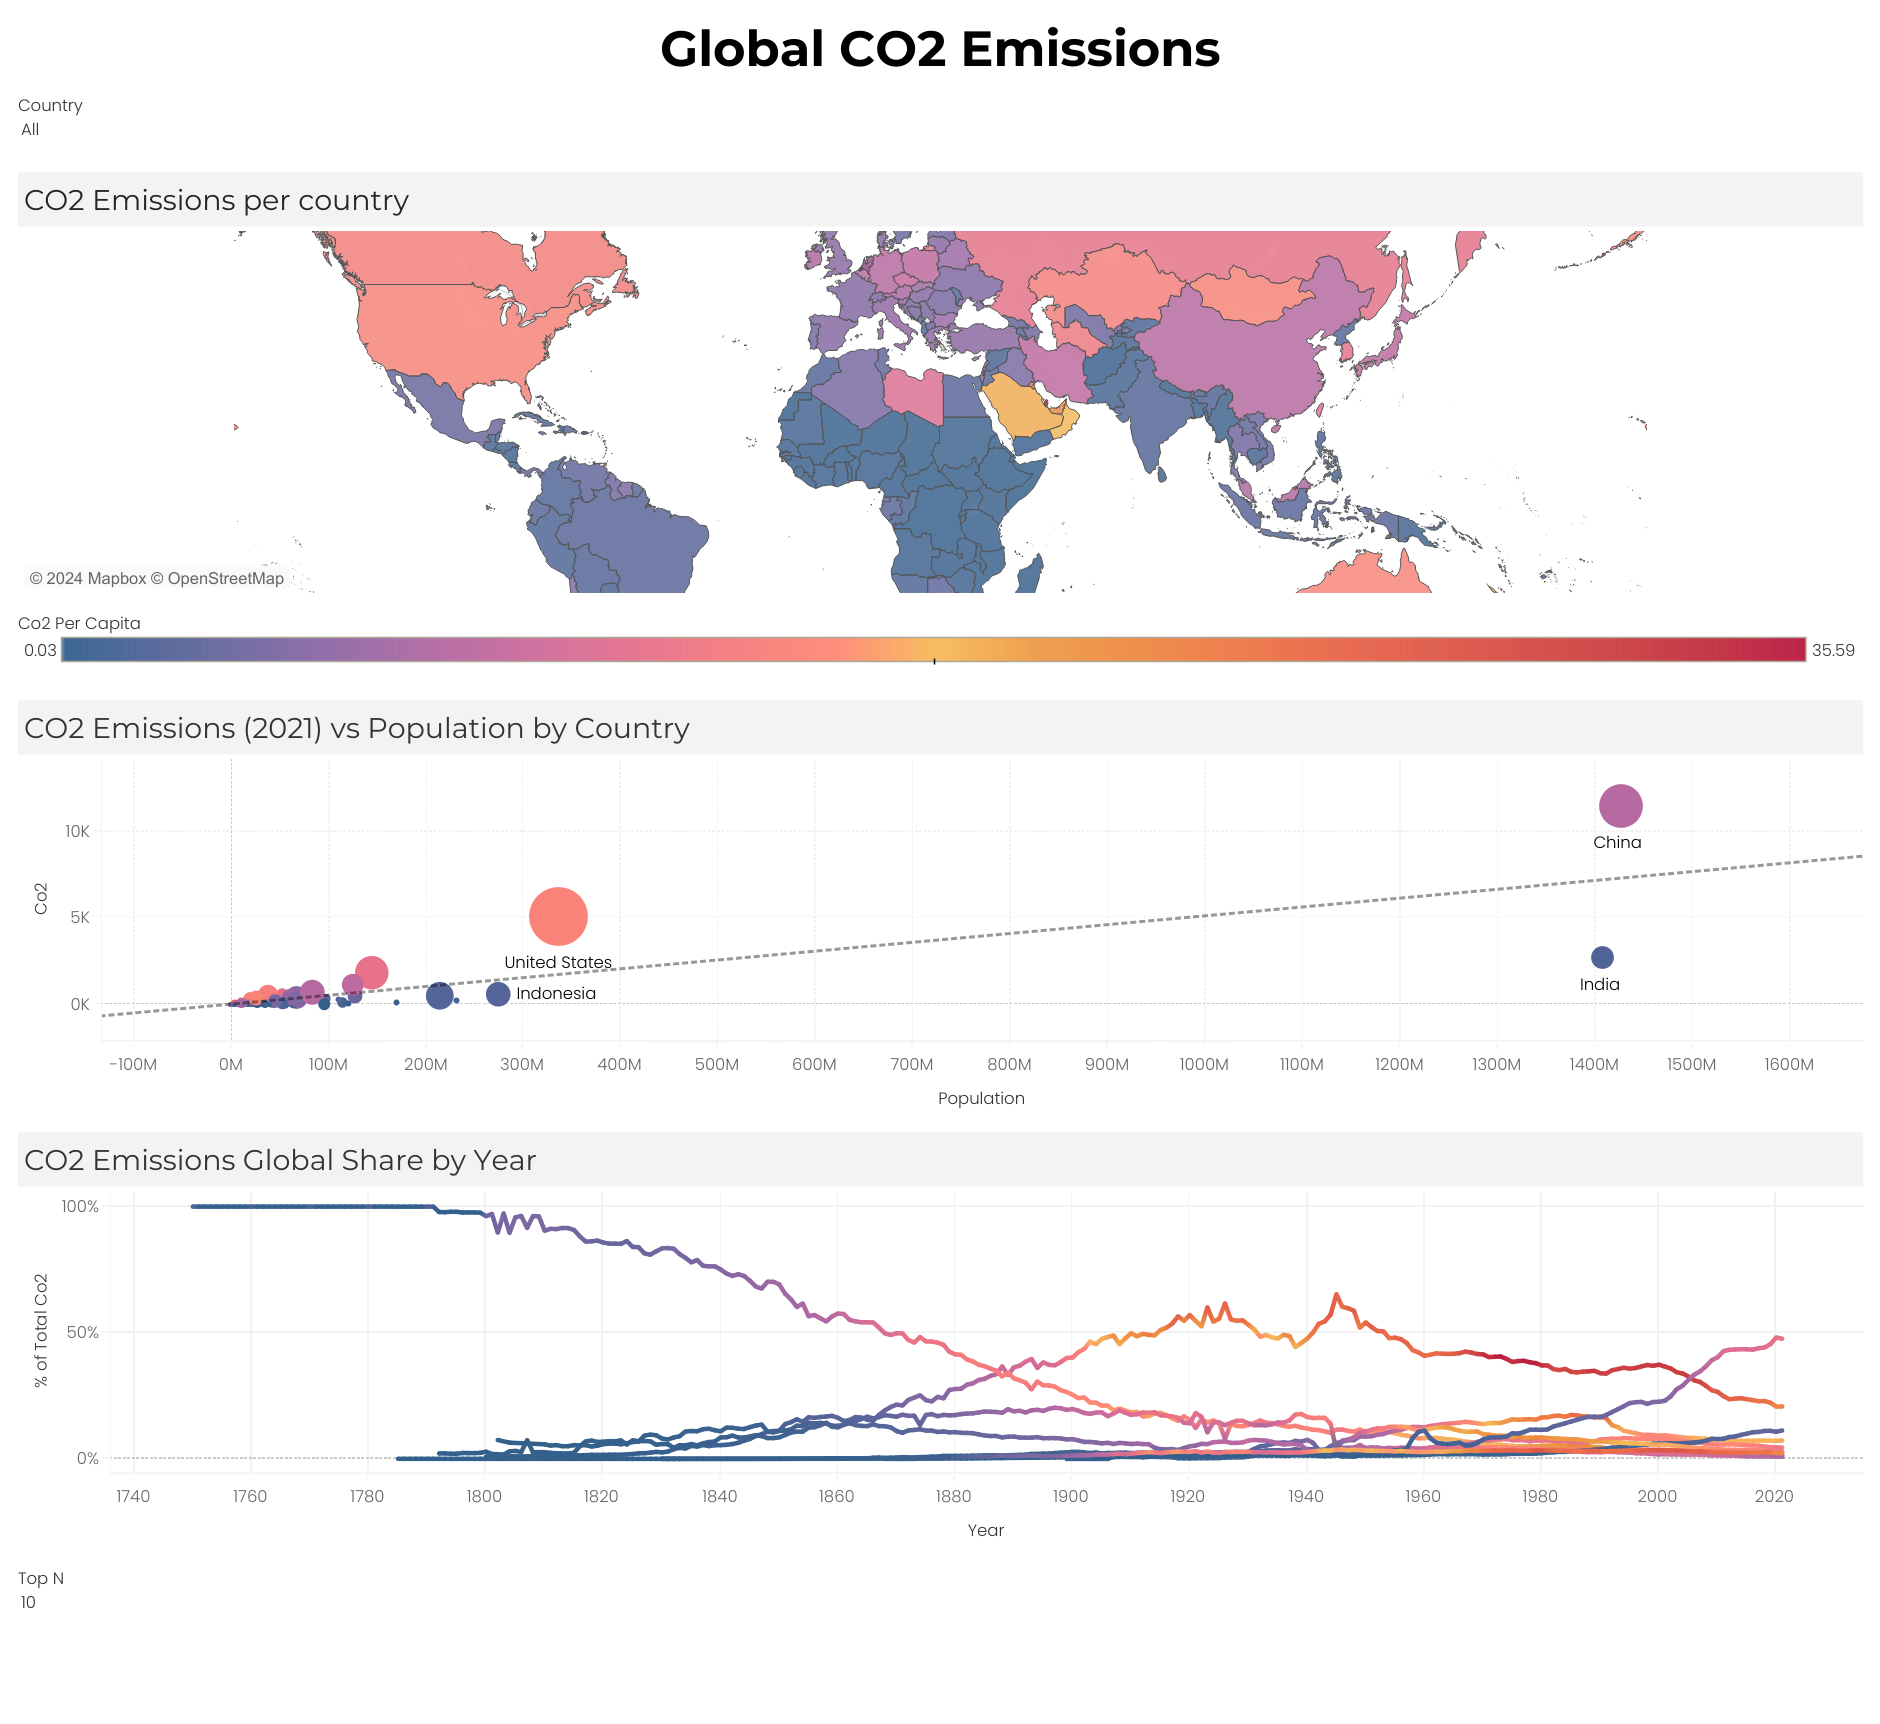

This screenshot's page, from the dashboard's own definition file:
{"tool":"tableau","page":{"name":"Global CO2 emissions","canvas":[1000,1000],"units":"permille","ordinal":0},"visuals":[{"type":"filter","title":"Map","param":"[federated.1m7akbw11xkugw195v9y71me5m21].[none:Country (copy)_455707988777836544","box":[887.2,0,96,76.9]},{"type":"text","box":[5,9.9,990,63.3]},{"type":"worksheet","title":"Map","mark":"Automatic","box":[5,73.2,495,458.4]},{"type":"worksheet","title":"Scatterplot","mark":"Automatic","rows":["co2"],"cols":["population"],"box":[500,73.2,495,458.4]},{"type":"legend","title":"Map","param":"[federated.1m7akbw11xkugw195v9y71me5m21].[sum:co2_per_capita:qk]","box":[432,402,87.3,124.1]},{"type":"worksheet","title":"Line Chart","mark":"Automatic","cols":["year"],"box":[5,531.6,990,458.4]},{"type":"parameter","param":"[Parameters].[Parameter 1]","box":[903.4,552.1,81,31]}]}

Visuals, with their boxes on the dashboard's canvas, which has no fixed pixel size, in thousandths of its width and height (x1, y1, x2, y2). These are canvas units, not pixel positions in the 1880x1724 screenshot, which may show the page scaled, cropped or inside an application window:
"Map" filter: 887, 0, 983, 77
text: 5, 10, 995, 73
"Map" worksheet: 5, 73, 500, 532
"Scatterplot" worksheet: 500, 73, 995, 532
"Map" legend: 432, 402, 519, 526
"Line Chart" worksheet: 5, 532, 995, 990
parameter: 903, 552, 984, 583
